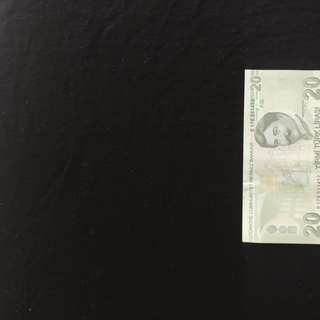20TLBack: (241, 69, 320, 245)
